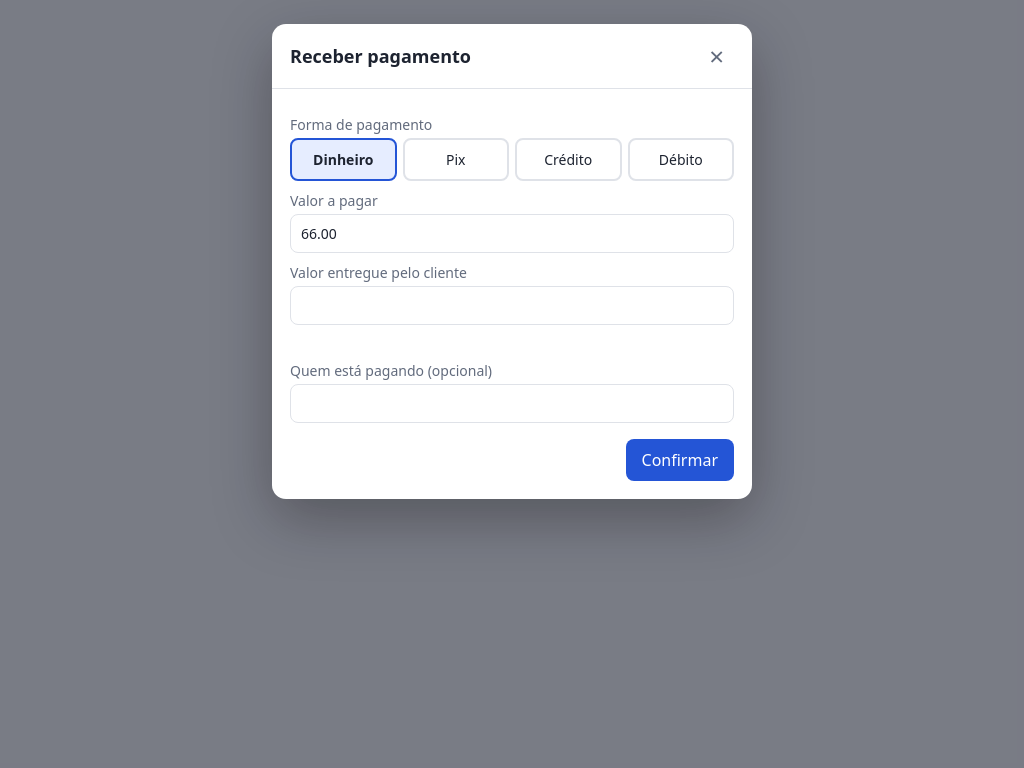
Test: PagamentoModal › mostra o troco enquanto o valor entregue é digitado (só em dinheiro)
Type "100" into the number field labelled "Valor entregue pelo cliente".
click(512, 306); type("100")  # box [290,286,734,325]
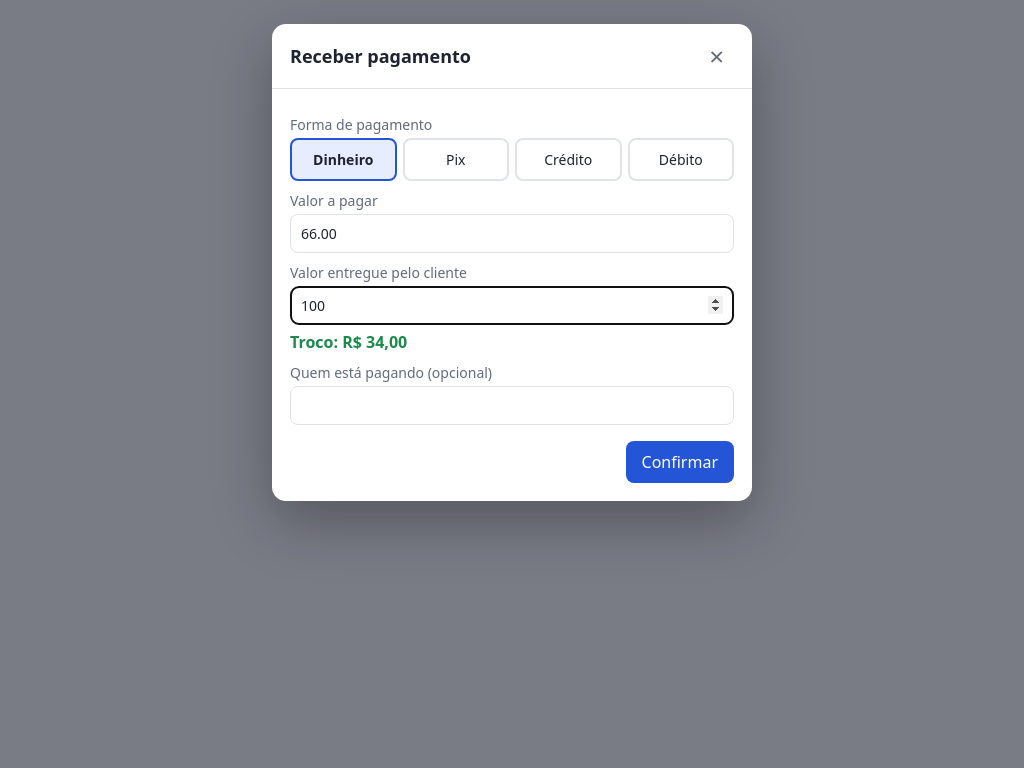
Result: the text "Troco: R$ 34,00" is shown at [290,331,407,353]
Click the radio button labelled "Pix".
click(456, 160)  # box [402,138,509,181]
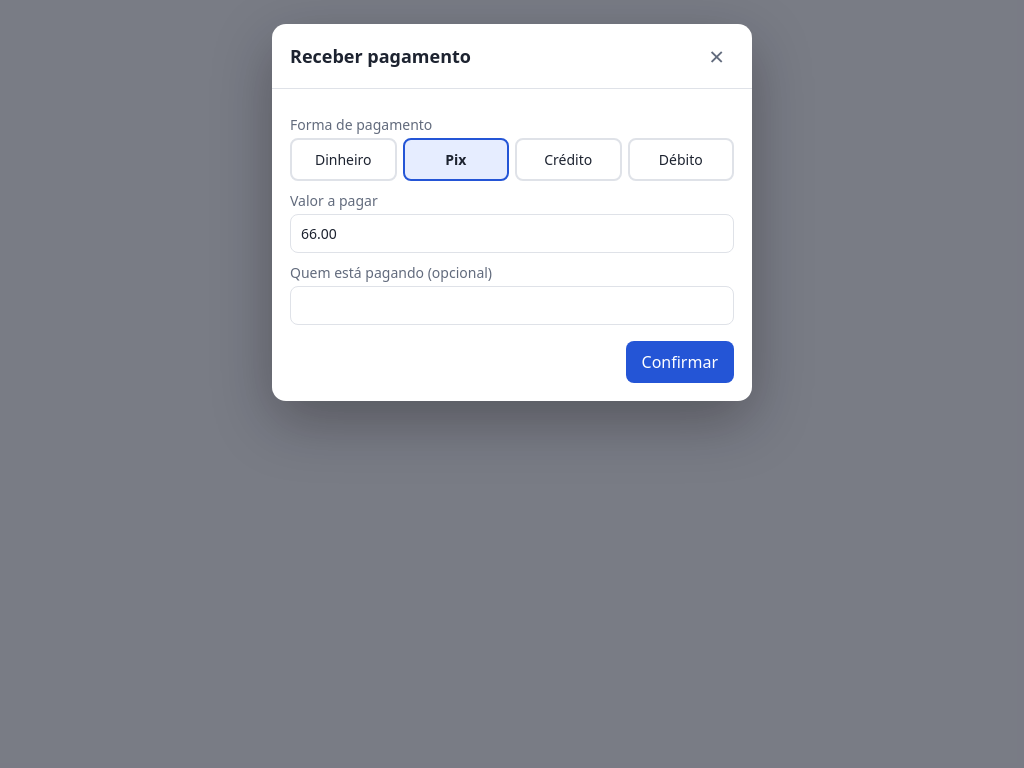
Result: the label labelled "Valor entregue pelo cliente" is gone
